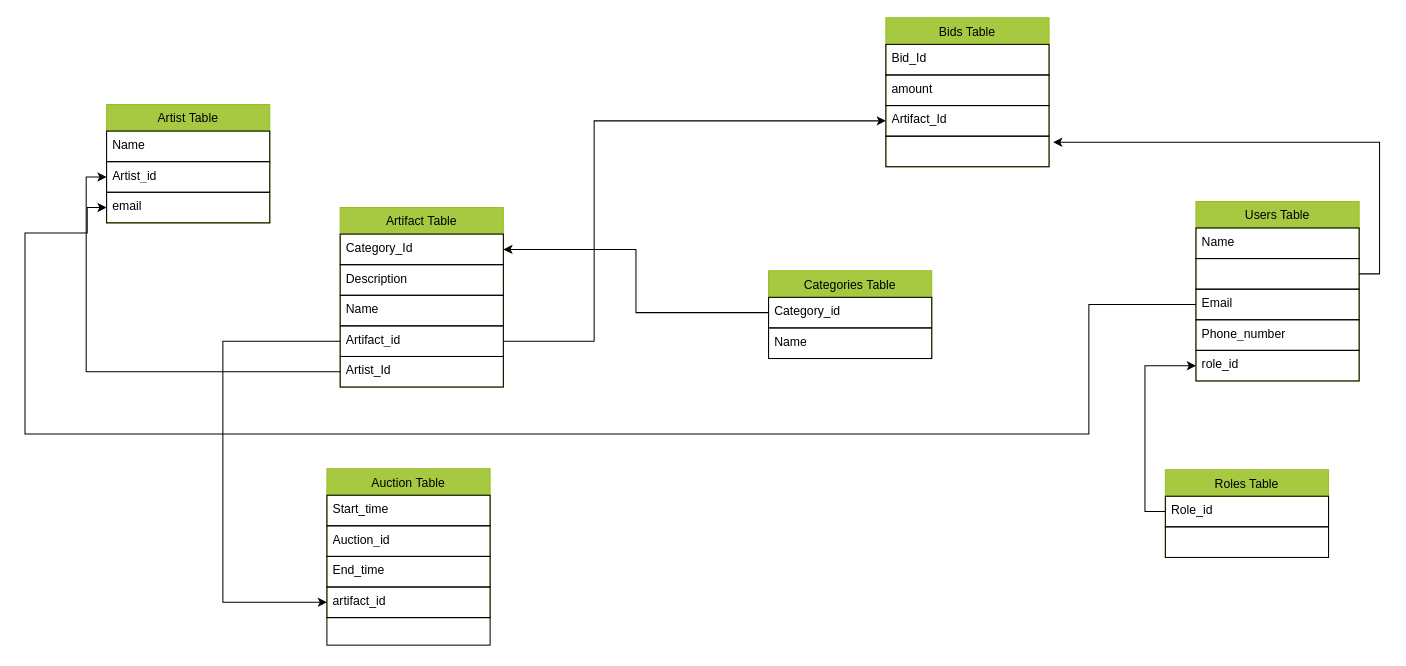
The diagram is 1406 pixels wide and 666 high, and some of its shapes have lost their labels. The centre of each missing label's shape, as x and y in pixels:
Base_amount: the point at 408,631
Bidder_Id: the point at 967,151
Title: the point at 1246,541
User_id: the point at 1277,273
